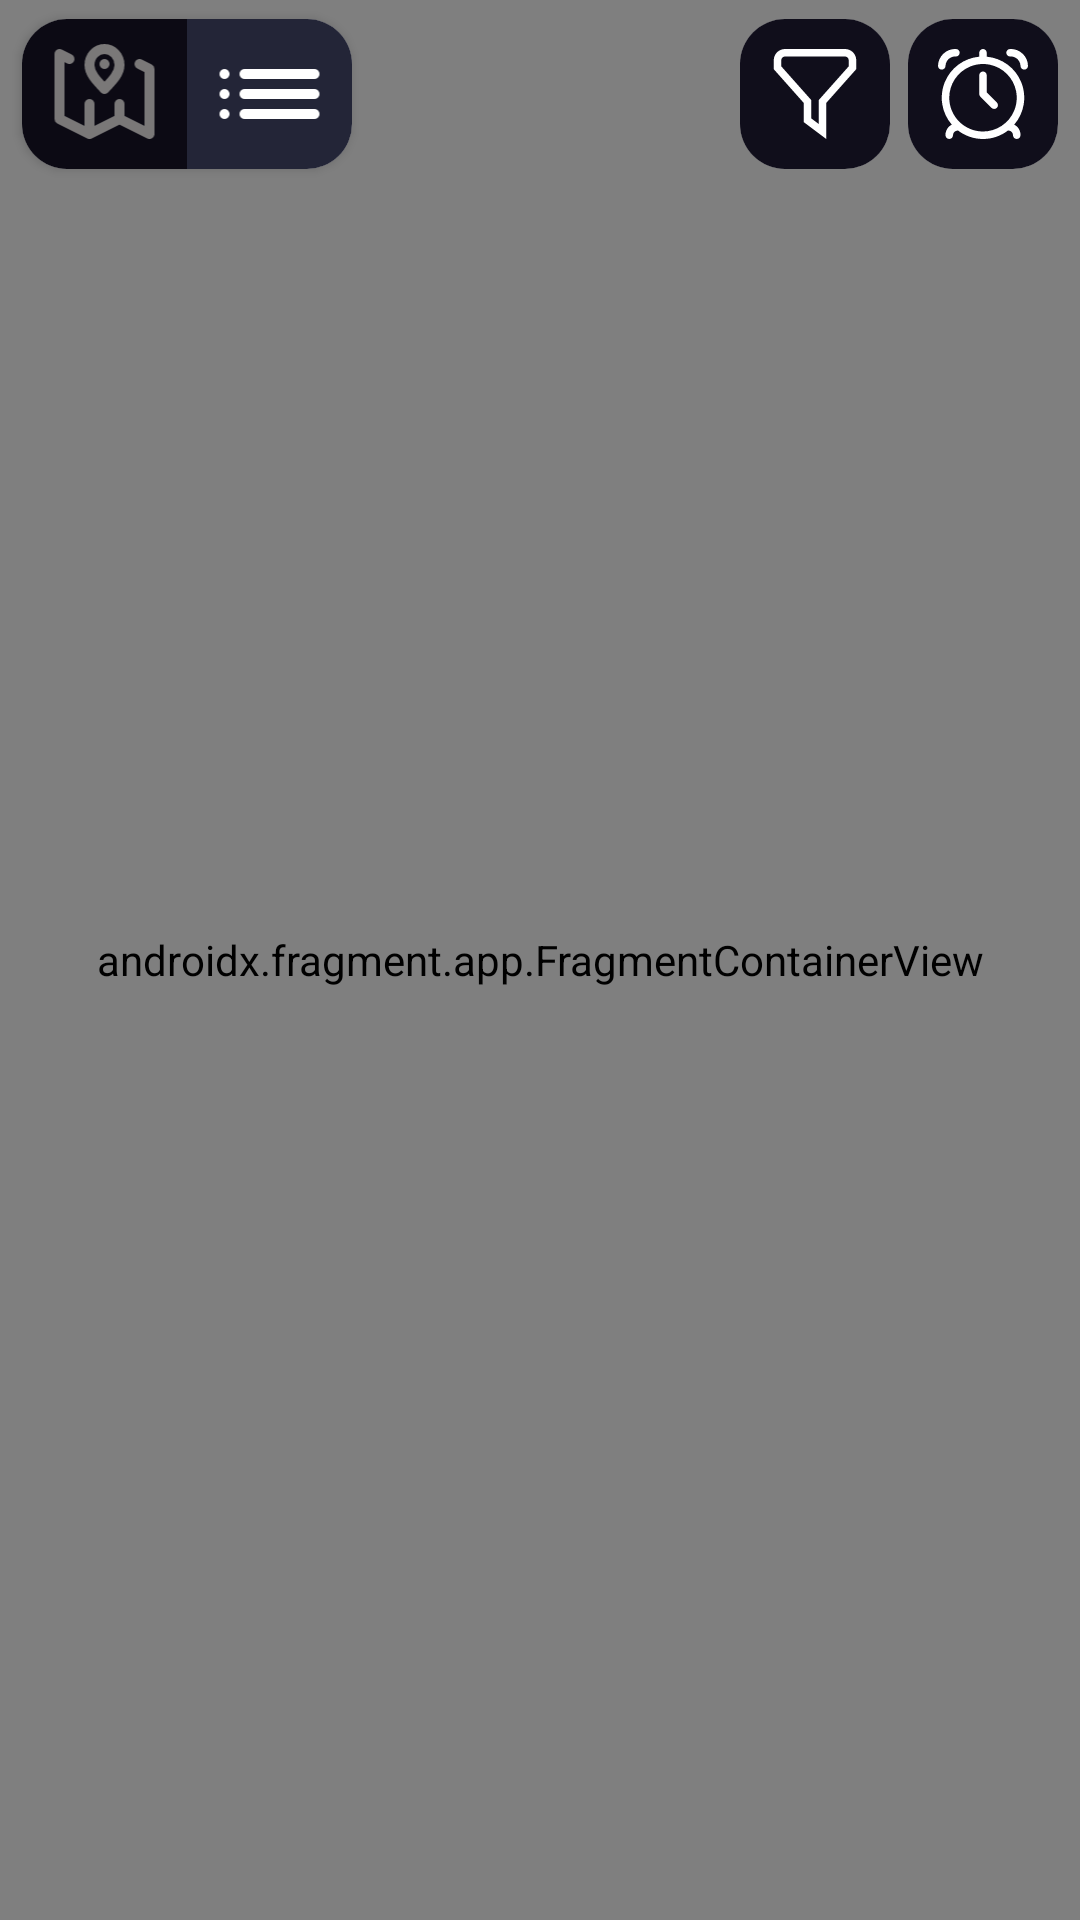

Point at icon controls on the screen. Image size 1080*1920, points as point (x, y).
filter: point (815, 94)
list: point (269, 94)
map: point (104, 94)
timer home: point (983, 94)
